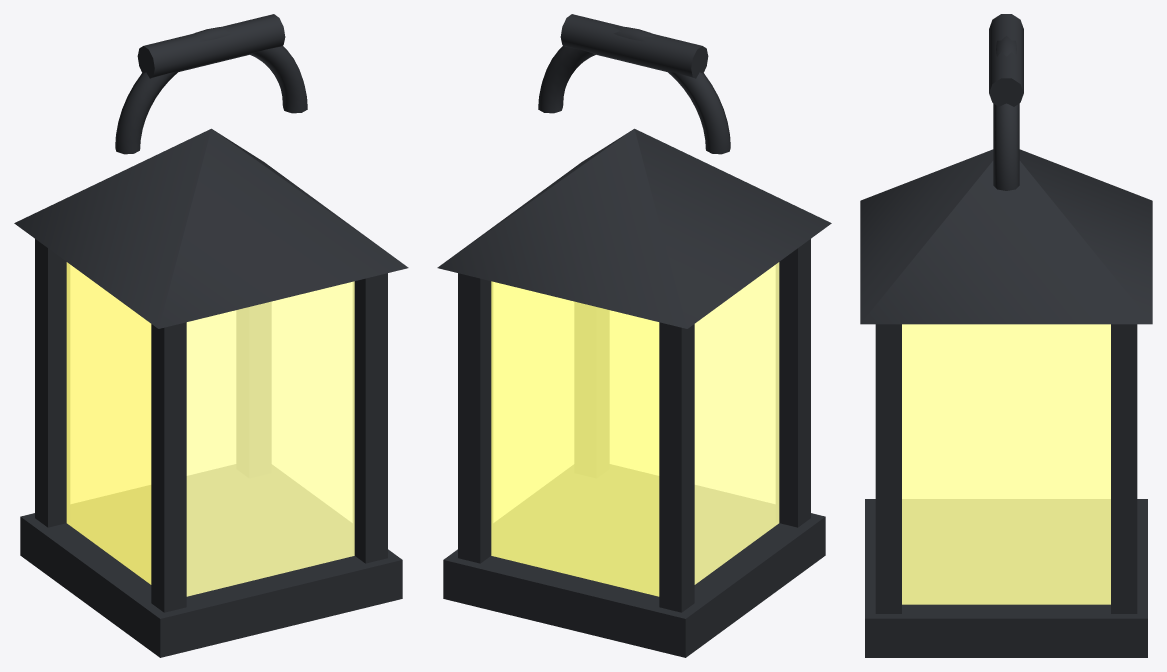
The model's file is lantern.glb.
3 views of the same model, side by side, from view 1: azimuth 30°, elevation 25°; view 2: azimuth 150°, elevation 25°; view 3: azimuth 270°, elevation 25° (orthographic).
Visible parts, largest first — view 1: lantern-glass-body, lantern-roof, lantern-base, lantern-post-2, lantern-post-0, lantern-post-3, lantern-bar, lantern-bail; view 2: lantern-glass-body, lantern-roof, lantern-base, lantern-post-3, lantern-post-1, lantern-post-2, lantern-bar, lantern-bail; view 3: lantern-glass-body, lantern-roof, lantern-base, lantern-post-0, lantern-post-1, lantern-bar, lantern-bail.
Boxes of the visible parts, x1,y1,x2,y2 form: lantern-glass-body: (66, 262, 354, 596); lantern-roof: (14, 128, 408, 328); lantern-base: (20, 465, 402, 657); lantern-post-2: (151, 322, 186, 612); lantern-post-0: (354, 273, 387, 563); lantern-post-3: (35, 239, 69, 527); lantern-bar: (137, 14, 285, 78); lantern-bail: (115, 26, 307, 154); lantern-glass-body: (491, 262, 779, 596); lantern-roof: (437, 128, 831, 328); lantern-base: (443, 466, 825, 657); lantern-post-3: (659, 322, 694, 612); lantern-post-1: (458, 273, 492, 563); lantern-post-2: (776, 239, 810, 527); lantern-bar: (560, 14, 708, 78); lantern-bail: (538, 26, 730, 154); lantern-glass-body: (902, 324, 1110, 604); lantern-roof: (860, 149, 1152, 324); lantern-base: (865, 499, 1147, 657); lantern-post-0: (875, 324, 901, 613); lantern-post-1: (1111, 324, 1137, 613); lantern-bar: (989, 14, 1023, 106); lantern-bail: (993, 36, 1019, 190).
Size of the model in its own units: 0.1344 by 0.281 by 0.1344.
